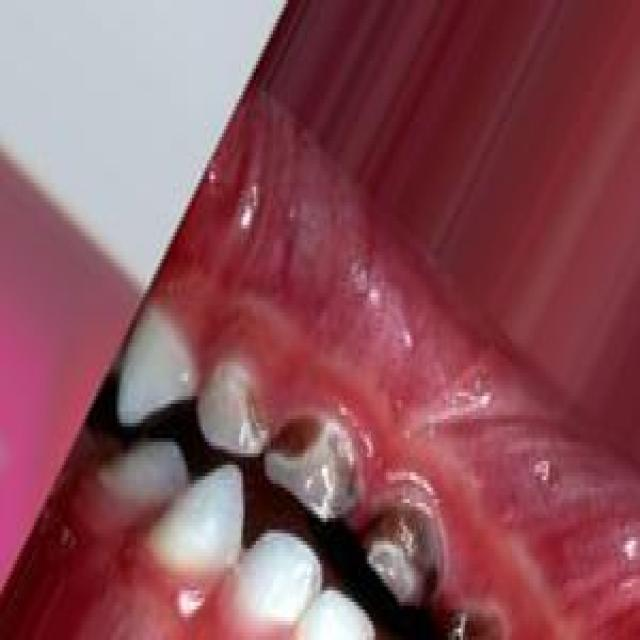caries: (262, 402, 362, 528), (359, 484, 449, 619), (202, 350, 268, 459)
